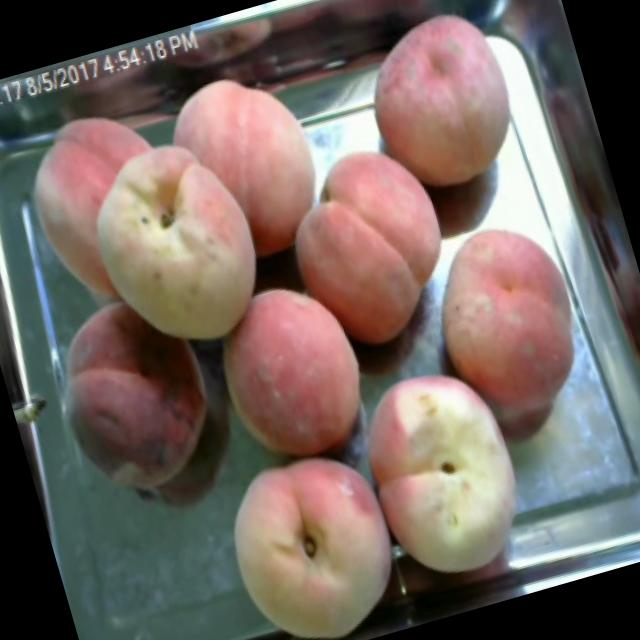Fruit: (62, 112, 292, 376), (19, 270, 246, 528), (256, 119, 483, 375), (401, 198, 620, 462), (345, 339, 555, 597), (146, 45, 354, 284), (189, 257, 399, 491), (196, 424, 416, 640), (339, 0, 548, 214)
